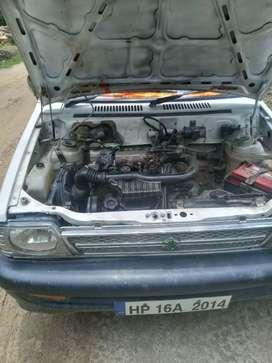HP16A2014: (112, 294, 230, 316)
